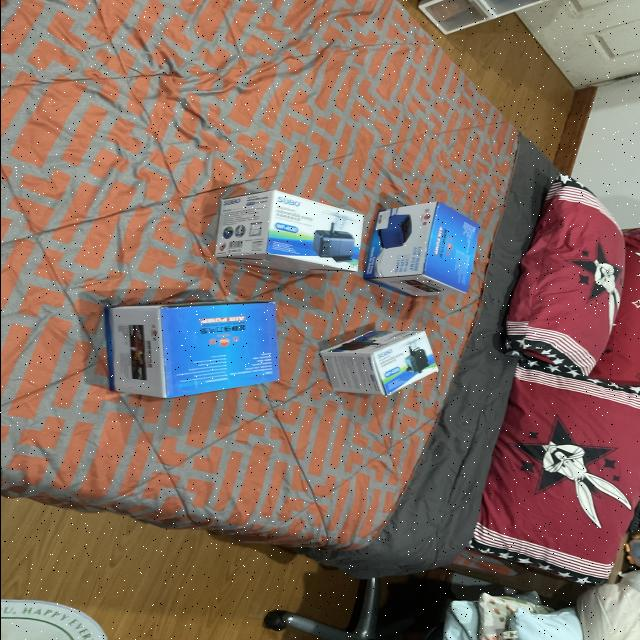SOBO_WP_4200: (210, 180, 368, 280), (308, 318, 442, 406)
YAMANO_LPP_20: (104, 284, 300, 406), (362, 190, 506, 300)
